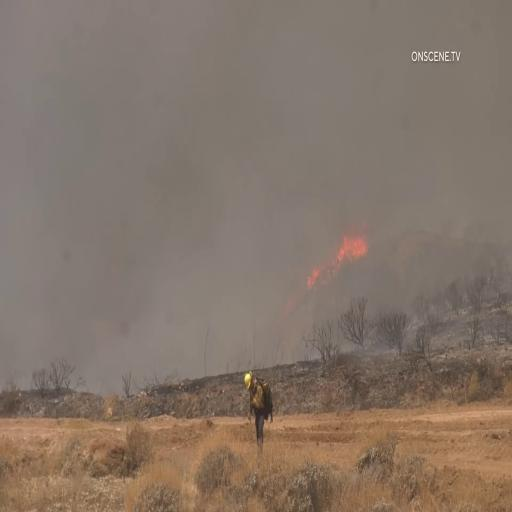fire: (303, 221, 375, 293)
